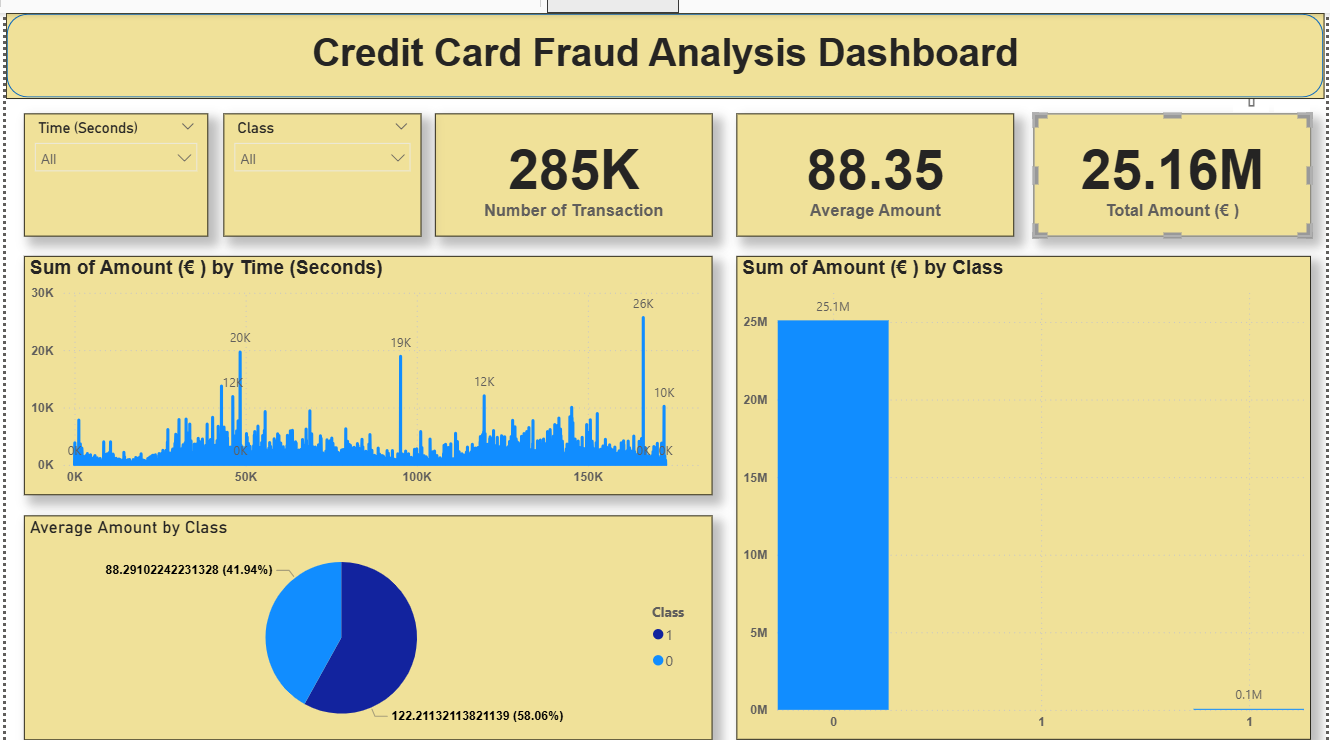

What the dashboard file says about the page in this screenshot:
{"tool":"powerbi","page":{"name":"Page 1","canvas":[1280,720],"ordinal":0},"visuals":[{"type":"card","fields":{"Values":["Sum(creditcard.Amount (€ ))"]},"box":[996.3,96.9,269.5,119.6],"z":0},{"type":"card","fields":{"Values":["creditcard.Average Amount"]},"box":[708.6,96.9,269.5,119.6],"z":1},{"type":"card","fields":{"Values":["creditcard.Number of Transaction"]},"box":[416.4,96.9,269.5,119.6],"z":2},{"type":"shape","box":[0,0,1279.5,83.3],"z":3},{"type":"clusteredColumnChart","fields":{"Y":["Sum(creditcard.Amount (€ ))"],"Category":["creditcard.Class"]},"box":[708.6,236.2,557.2,469.4],"z":4},{"type":"lineChart","fields":{"Category":["creditcard.Time (Seconds)"],"Y":["Sum(creditcard.Amount (€ ))"]},"box":[18.2,236.2,667.8,231.7],"z":5},{"type":"textbox","box":[0,12.1,1279.5,56],"z":6},{"type":"slicer","fields":{"Values":["creditcard.Time (Seconds)"]},"box":[18.2,96.9,178.7,119.6],"z":7},{"type":"slicer","fields":{"Values":["creditcard.Class"]},"box":[210.5,96.9,192.3,119.6],"z":8},{"type":"pieChart","fields":{"Y":["creditcard.Average Amount"],"Category":["creditcard.Class"]},"box":[18.2,487.6,667.8,218],"z":9}]}

Visuals, with their boxes in screenshot pixels (x1, y1, x2, y2), scaled from the page's 1280x720 canvas onto the 1330x740 screenshot:
card - Sum(creditcard.Amount (€ )): 1035,100,1315,223
card - creditcard.Average Amount: 736,100,1016,223
card - creditcard.Number of Transaction: 433,100,713,223
shape: 0,0,1329,86
clusteredColumnChart - Sum(creditcard.Amount (€ )) x creditcard.Class: 736,243,1315,725
lineChart - creditcard.Time (Seconds) x Sum(creditcard.Amount (€ )): 19,243,713,481
textbox: 0,12,1329,70
slicer - creditcard.Time (Seconds): 19,100,205,223
slicer - creditcard.Class: 219,100,419,223
pieChart - creditcard.Average Amount x creditcard.Class: 19,501,713,725
